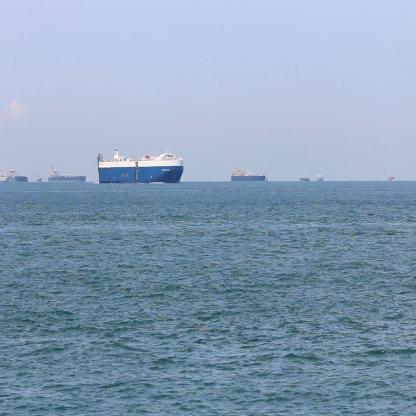Container Ship: (94, 152, 182, 184), (231, 164, 264, 183), (46, 167, 86, 182), (6, 164, 29, 188), (0, 168, 10, 185), (314, 171, 325, 185), (385, 170, 395, 184), (298, 176, 310, 184)
